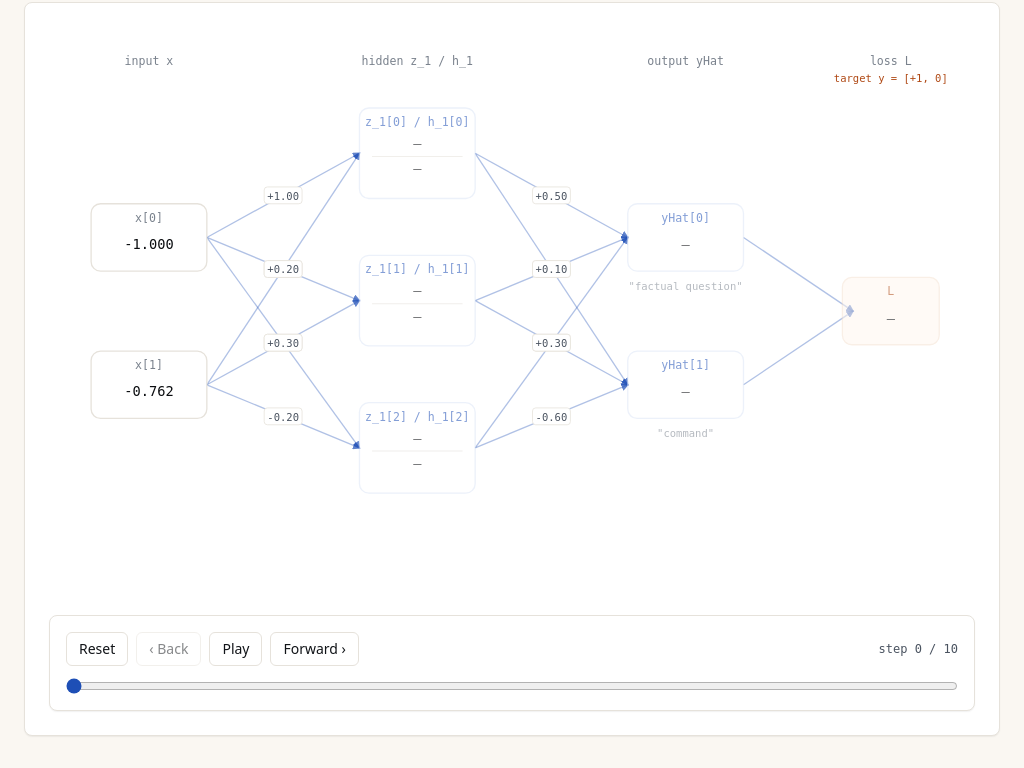
Test case: Layer 1 step controller › rewinds when Back is clicked, and resets to 0 on Reset
(page scrolled)
Click the button with aria-label "Step forward" at (315, 649), box [270, 632, 359, 666]
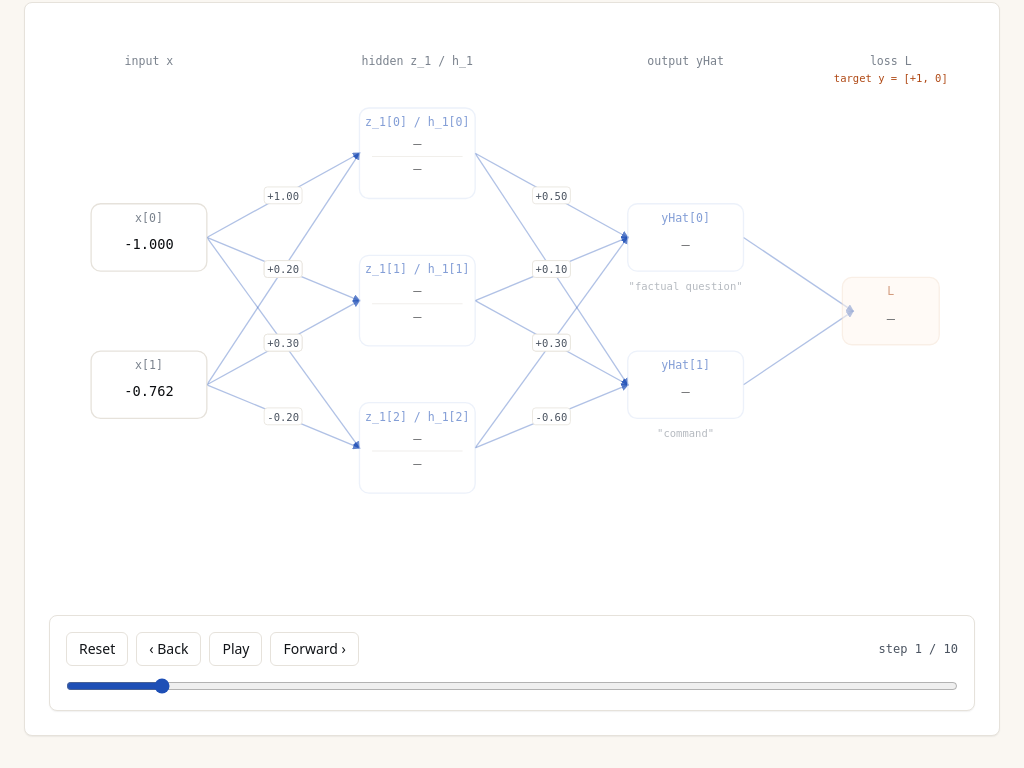
Click the button with aria-label "Step forward" at (315, 649), box [270, 632, 359, 666]
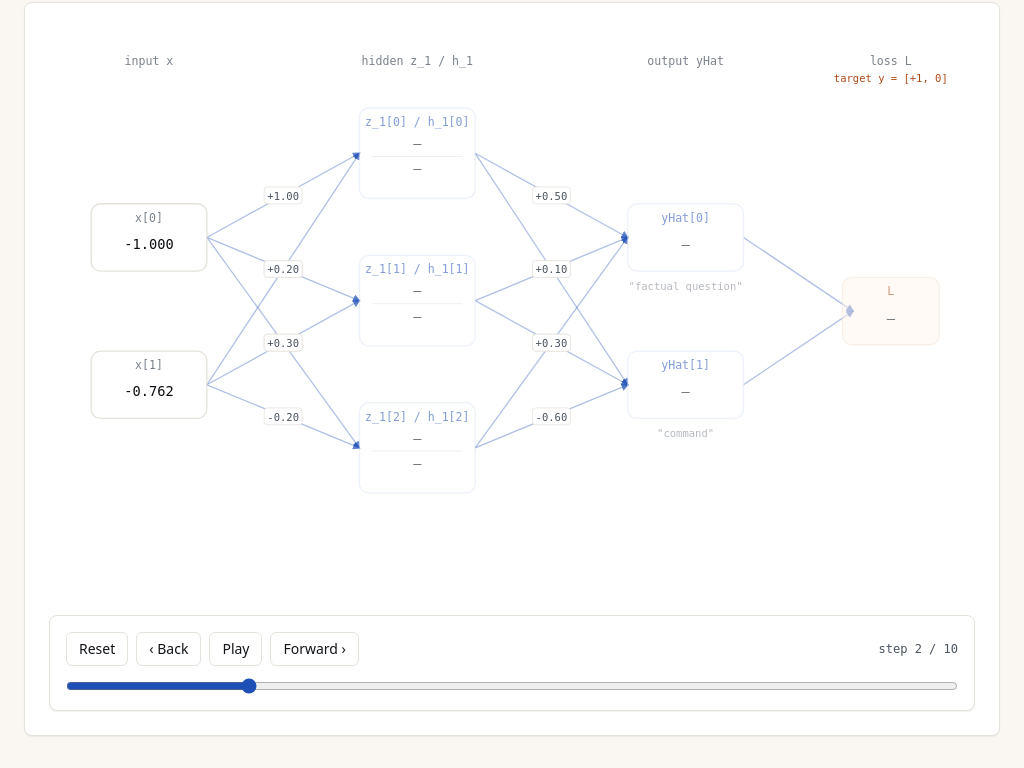
Click the button with aria-label "Step forward" at (315, 649), box [270, 632, 359, 666]
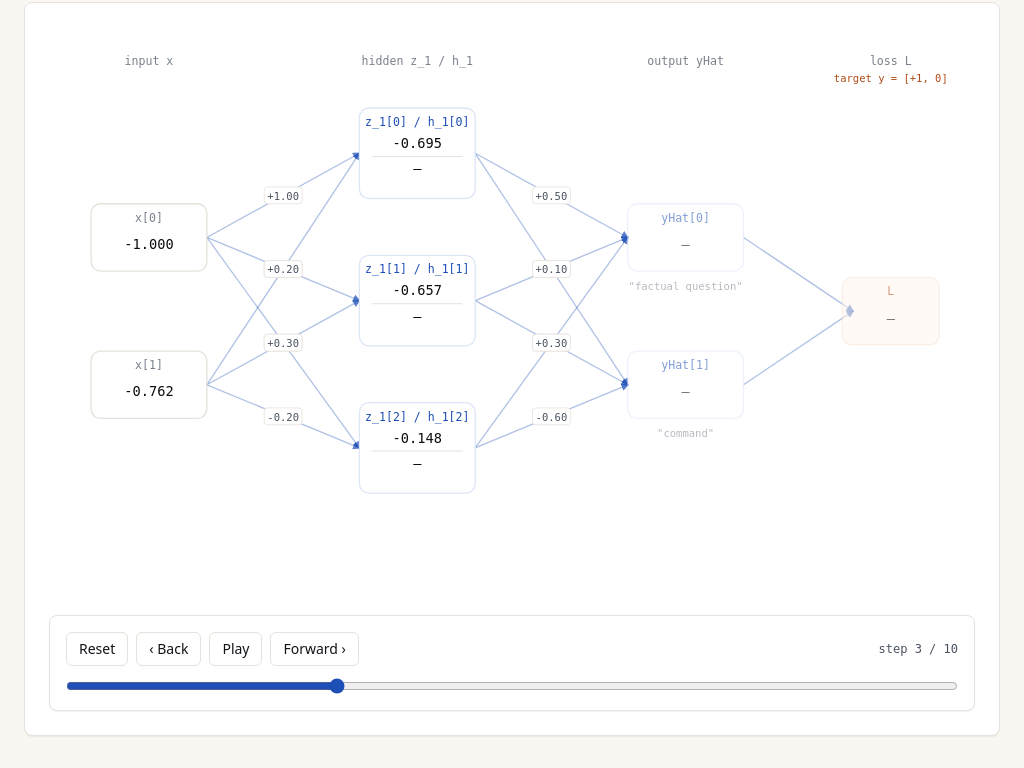
Now the text "step 3 / 10" is shown, box [878, 641, 958, 657]
Click the button with aria-label "Step back" at (169, 649), box [136, 632, 201, 666]
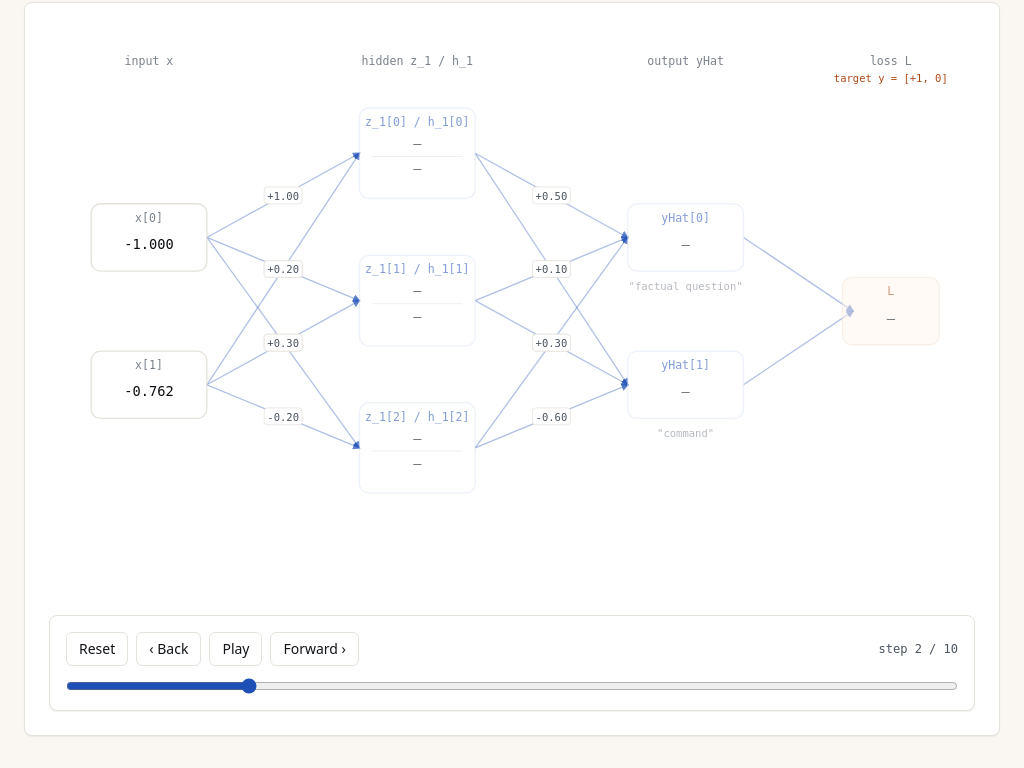
Now the text "step 2 / 10" is shown, box [878, 641, 958, 657]
Click the button "Reset" at (97, 649), box [66, 632, 128, 666]
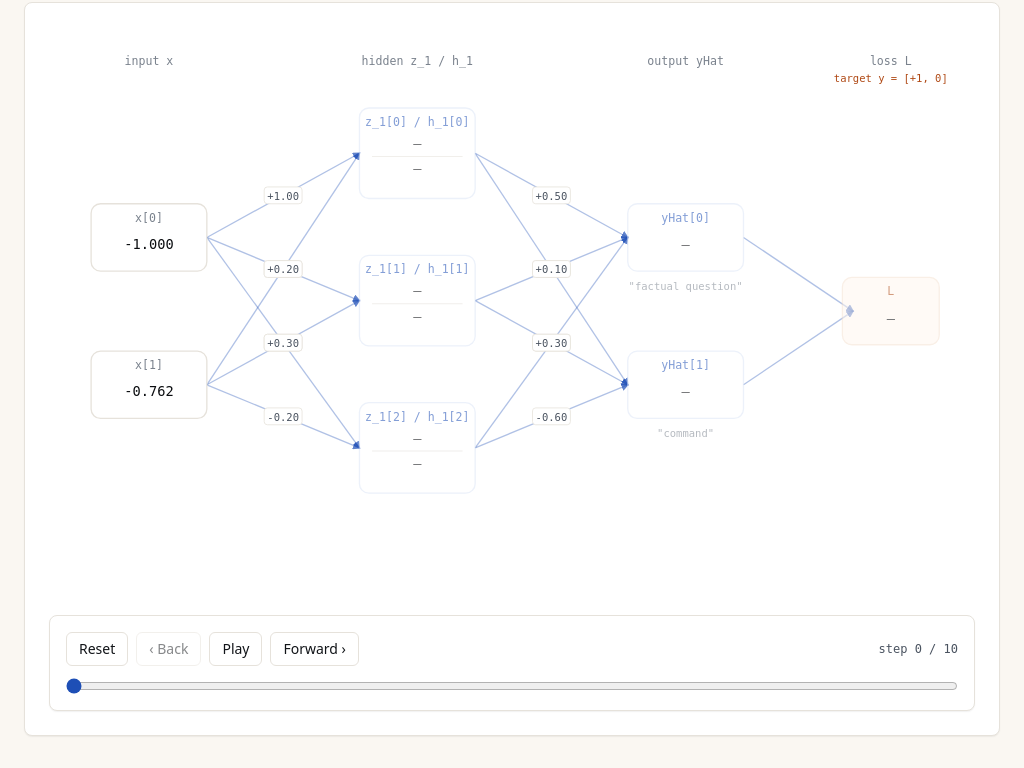
Now the text "step 0 / 10" is shown, box [878, 641, 958, 657]
